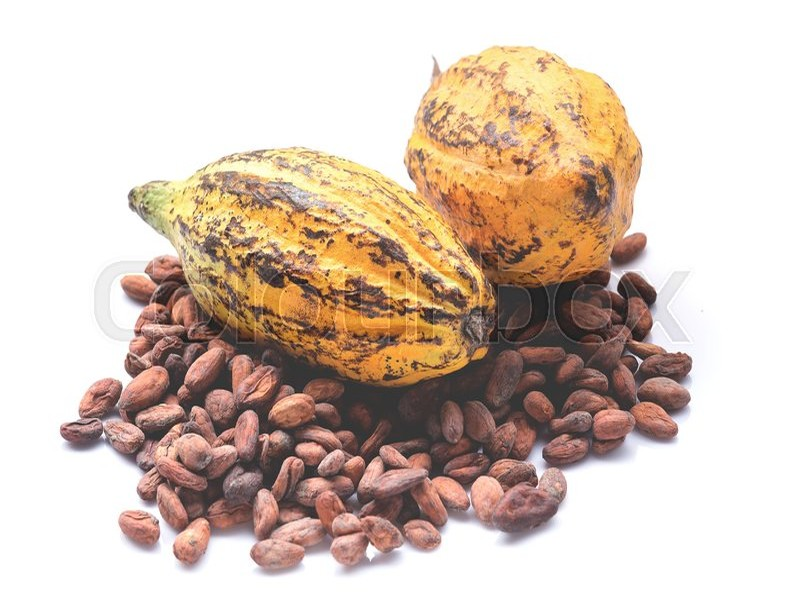Cacaopod: (126, 143, 474, 383), (406, 44, 639, 283)
